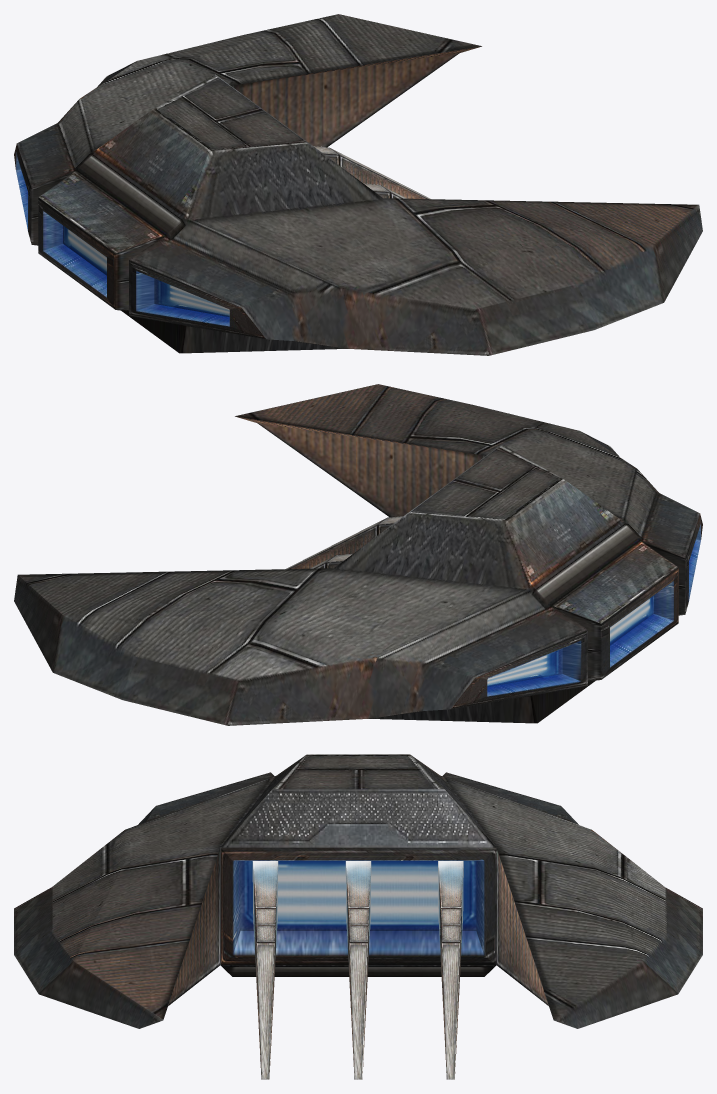
Rendered from wout.obj.
3 views of the same model, one above another, from view 1: azimuth 30°, elevation 25°; view 2: azimuth 150°, elevation 25°; view 3: azimuth 270°, elevation 25° (orthographic). The views are drawn at different scales.
Parts seen in each view (by area): view 1: wout_polySurface1; view 2: wout_polySurface1; view 3: wout_polySurface1.
Boxes of the visible parts, x1=… form: wout_polySurface1: x1=14, y1=14, x2=702, y2=355; wout_polySurface1: x1=14, y1=384, x2=702, y2=725; wout_polySurface1: x1=14, y1=754, x2=702, y2=1079.
Size of the model in its own units: 7.51 by 2.8 by 9.63.
1 material, 1 textured.
